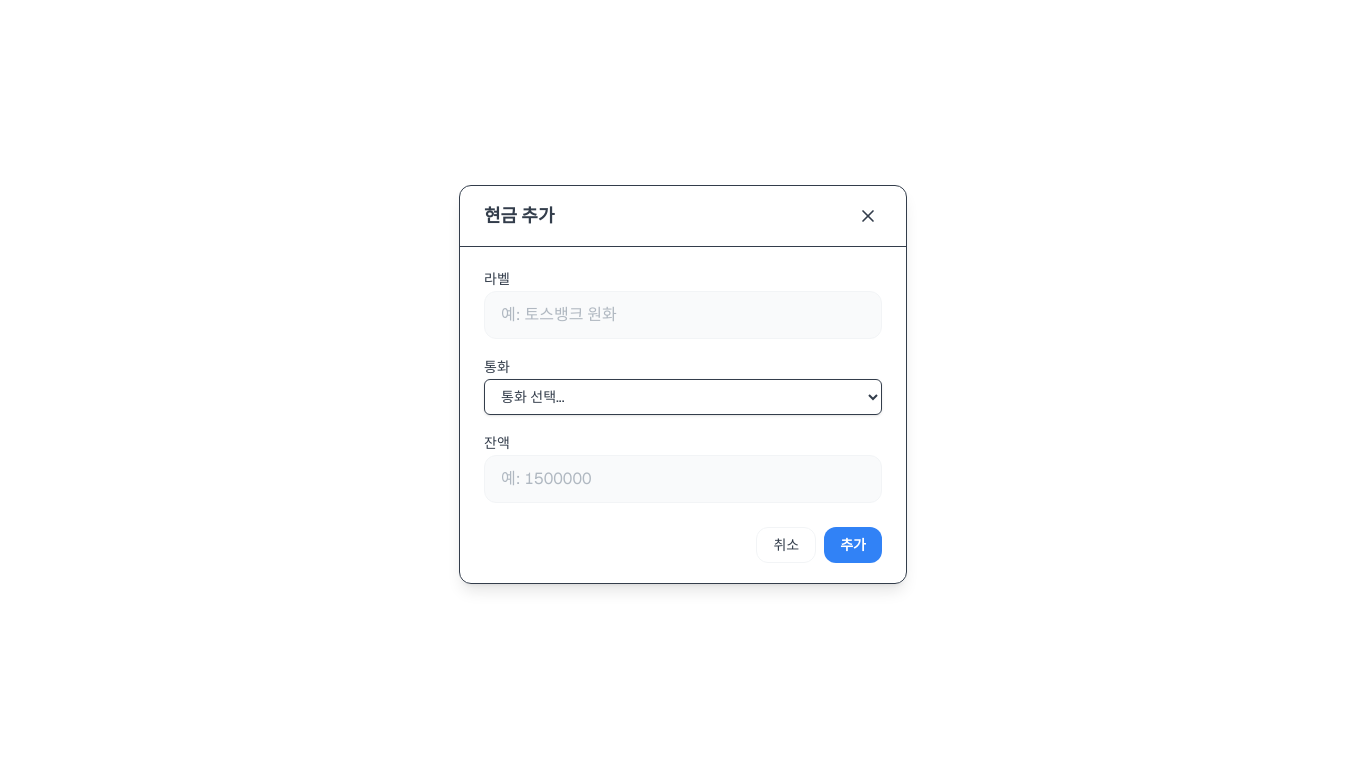
it: CashAccountAddDialog › 폼 검증 › 통화를 선택하지 않으면 currency 에러가 표시된다
The image size is (1366, 768).
Type "테스트 계좌" into the field named "계좌 라벨" at (683, 314), box [484,290,882,338]
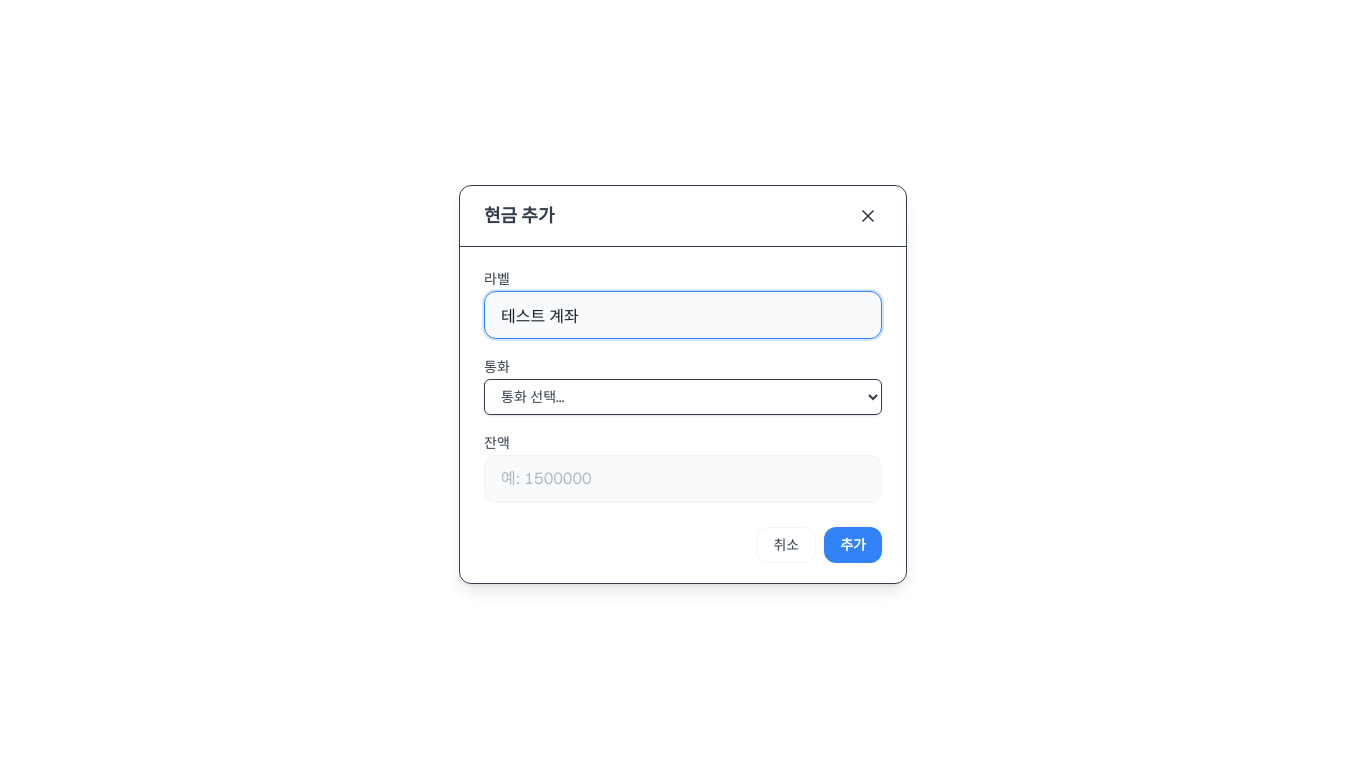
Type "1000" into the field named "계좌 잔액" at (683, 478), box [484,454,882,502]
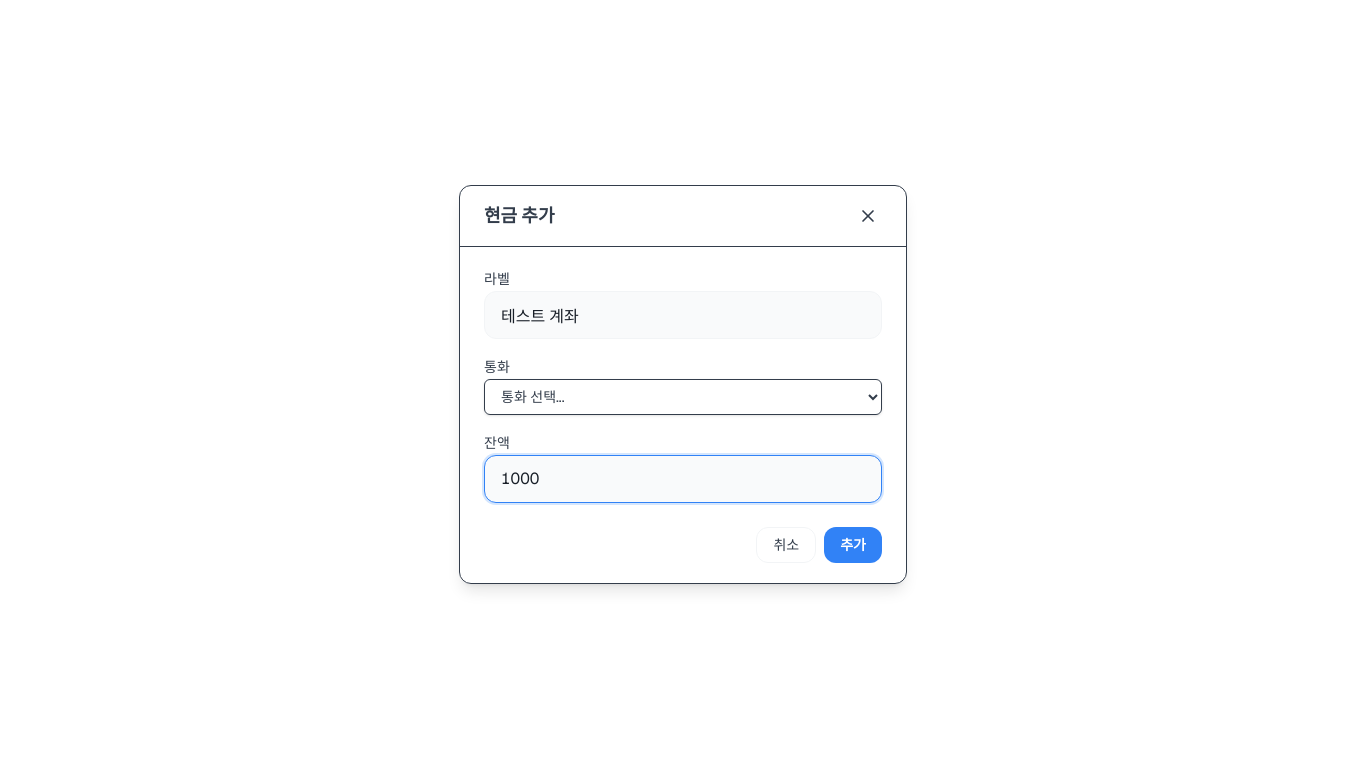
Click the button "추가" at (853, 544), box [824,526,882,562]
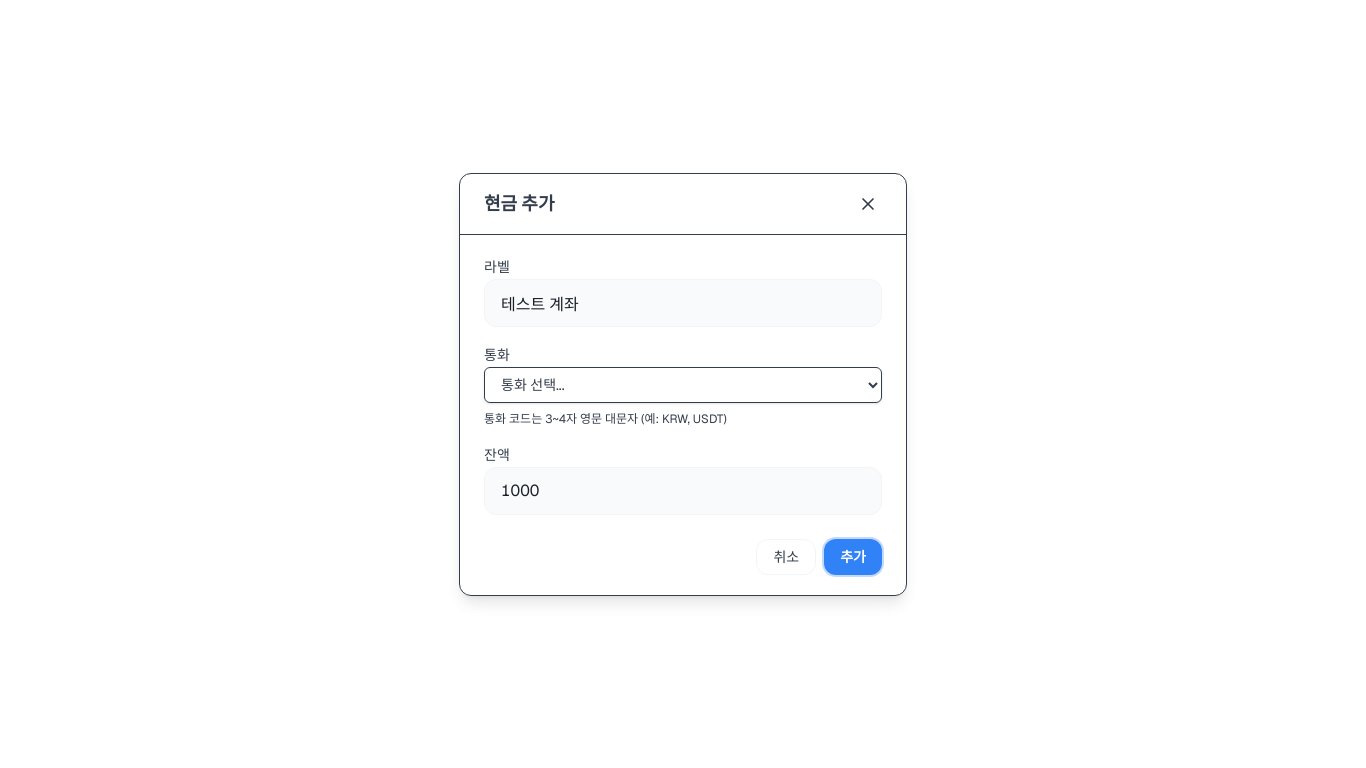
Now the text "통화 코드는 3~4자 영문 대문자 (예: KRW, USDT)" is shown, box [484,410,727,426]
